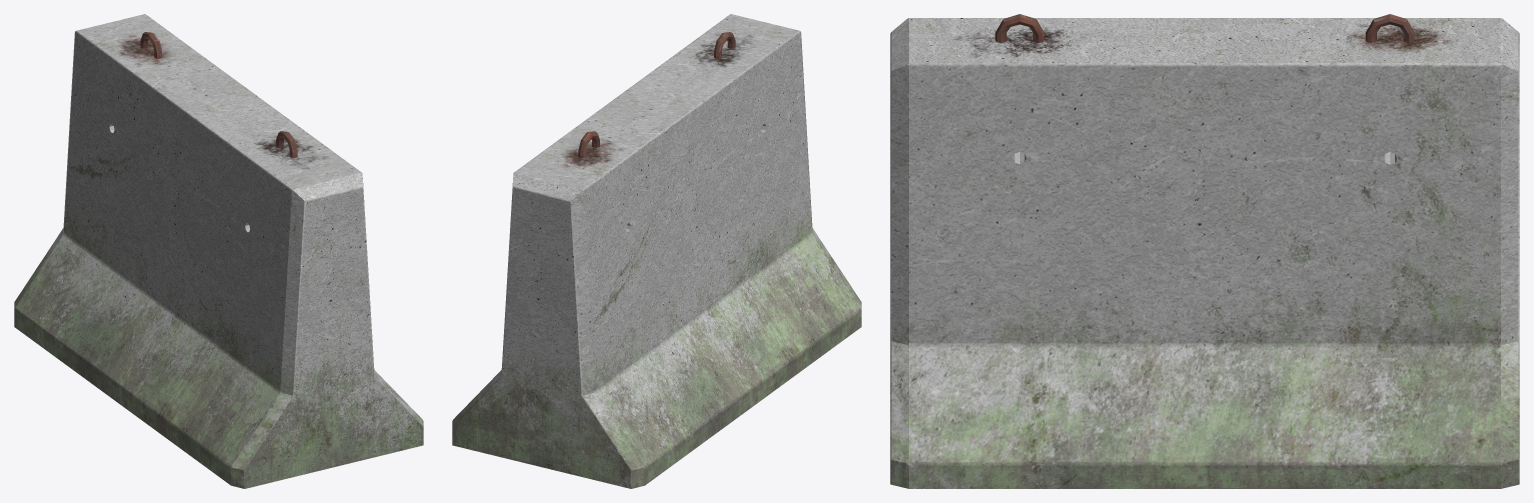
File: jersey_barrier (1).glb
The picture shows the model from 3 angles, left to right: view 1: azimuth 30°, elevation 25°; view 2: azimuth 150°, elevation 25°; view 3: azimuth 270°, elevation 25°; orthographic projection. The views are drawn at different scales.
Visible parts, largest first — view 1: jersey_barrier; view 2: jersey_barrier; view 3: jersey_barrier.
Part boxes in pixels (x1,y1,x2,y2): jersey_barrier: (14,14,423,488); jersey_barrier: (452,14,861,488); jersey_barrier: (890,14,1519,488).
Size of the model in its own units: 0.9647 by 1.44 by 2.
Materials: 1 (1 with a texture image).
